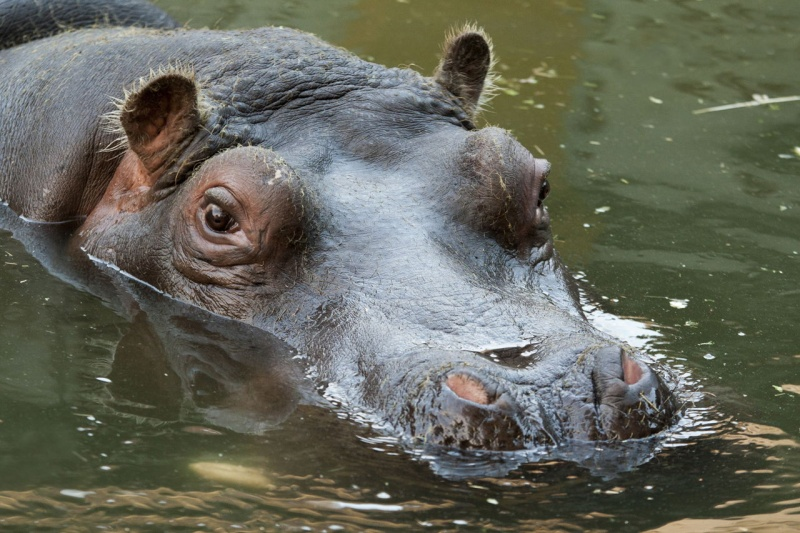hipopotamo: (0, 0, 657, 423)
